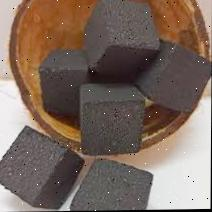cube: (0, 123, 84, 211), (86, 0, 161, 81), (80, 83, 146, 155)
